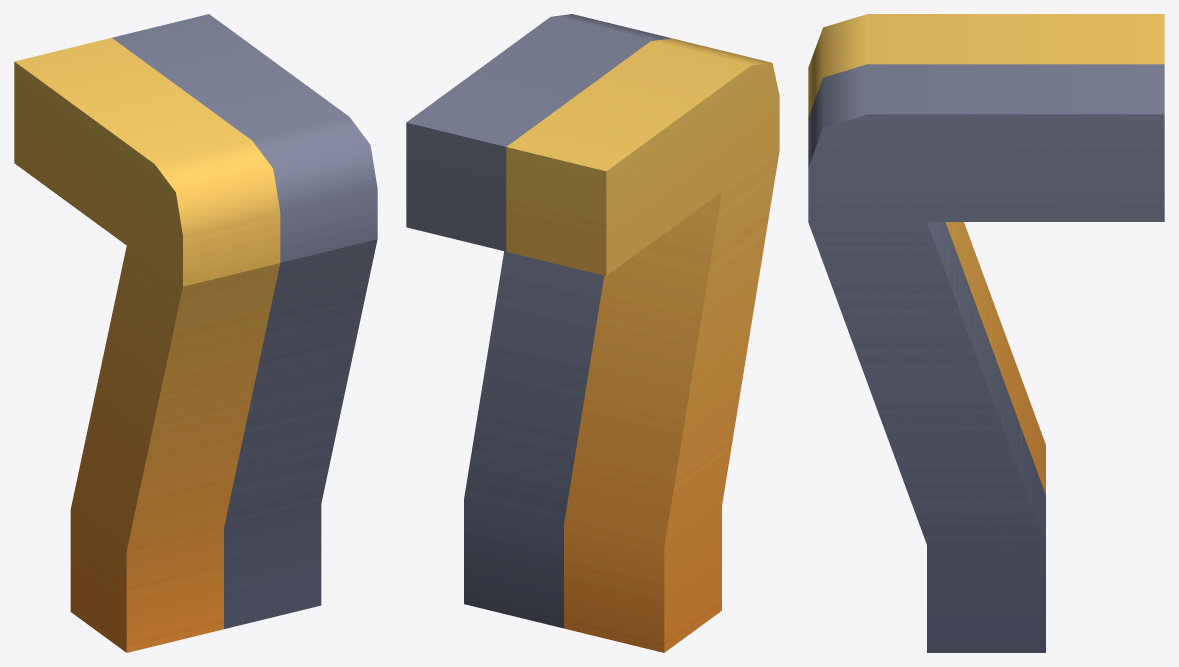
Rendered from number-double-7.glb.
The picture shows the model from 3 angles, left to right: view 1: azimuth 30°, elevation 25°; view 2: azimuth 150°, elevation 25°; view 3: azimuth 270°, elevation 25°; orthographic projection. The views are drawn at different scales.
Parts seen in each view (by area): view 1: number-double-7; view 2: number-double-7; view 3: number-double-7.
Part boxes in pixels (x1,y1,x2,y2): number-double-7: (14, 14, 377, 652); number-double-7: (406, 14, 779, 652); number-double-7: (808, 14, 1164, 652).
Bounding box in the file's own units: 0.2 × 0.5 × 0.3.
1 material, 1 textured.
